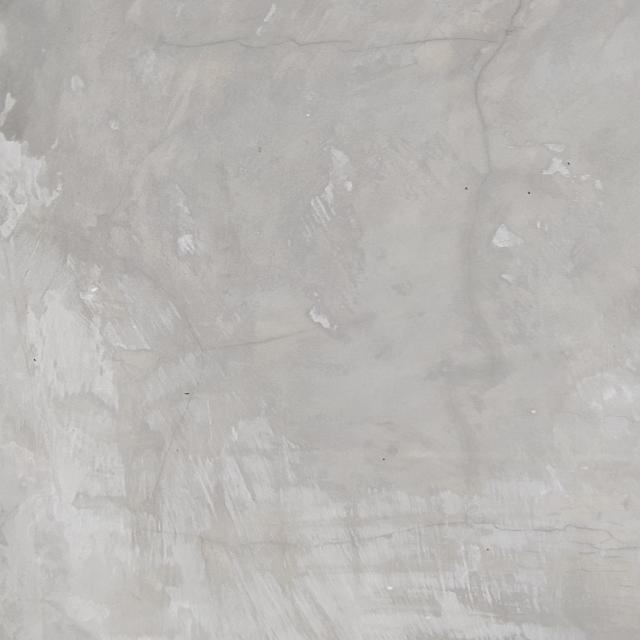Crack: (145, 2, 522, 212)
